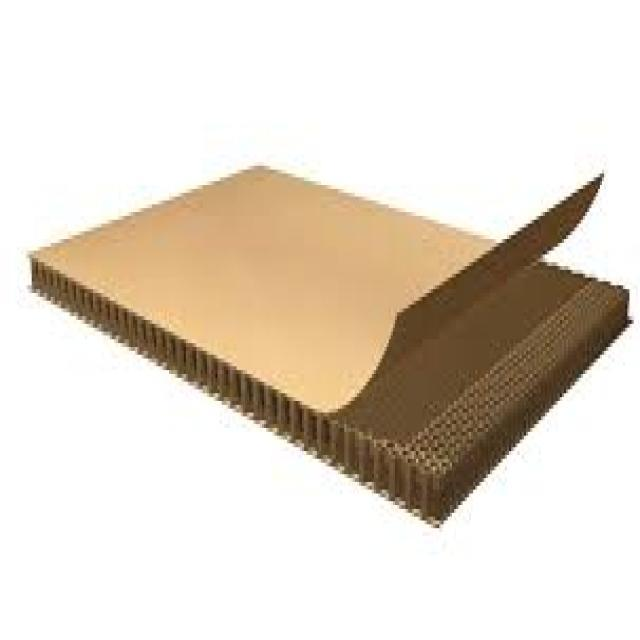Cardboard: (32, 160, 629, 531)
